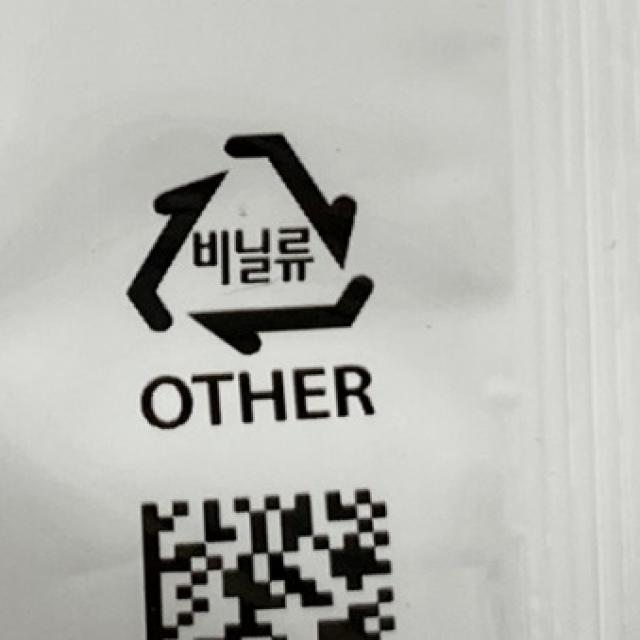Vinyl: (123, 124, 385, 360)
